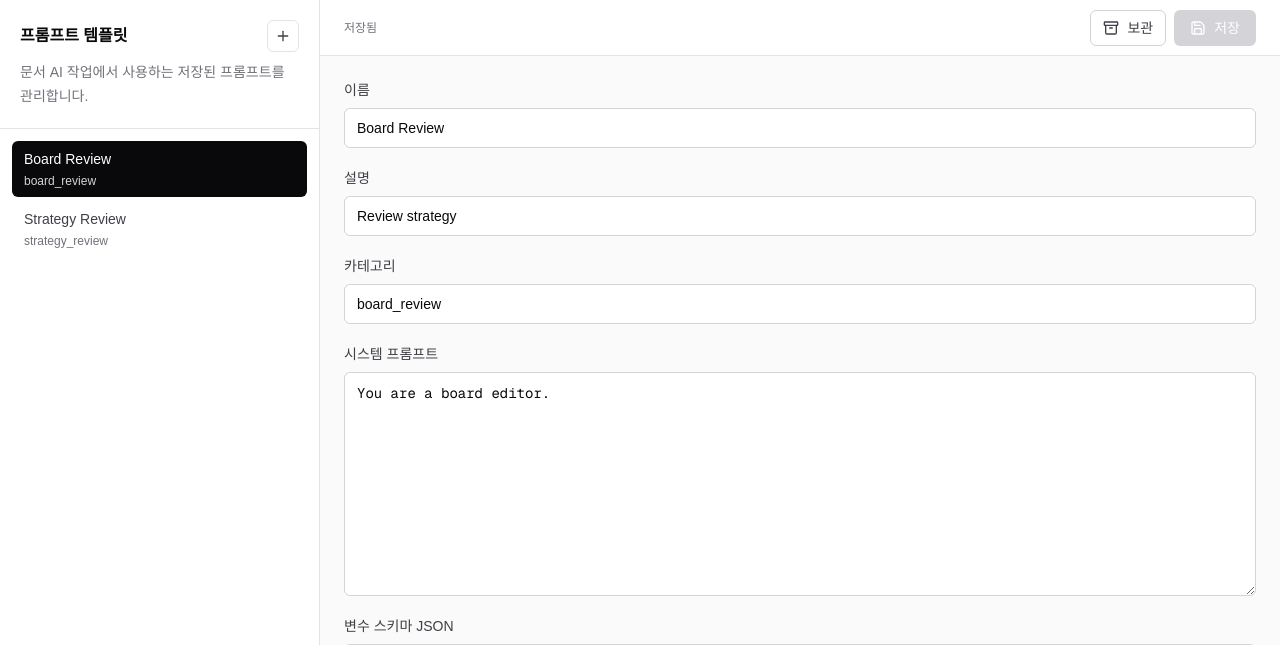
Scenario: PromptTemplateManager › archives the selected template
Click the button "Strategy Review strategy_review" at (75, 219), box [12,201,307,257]
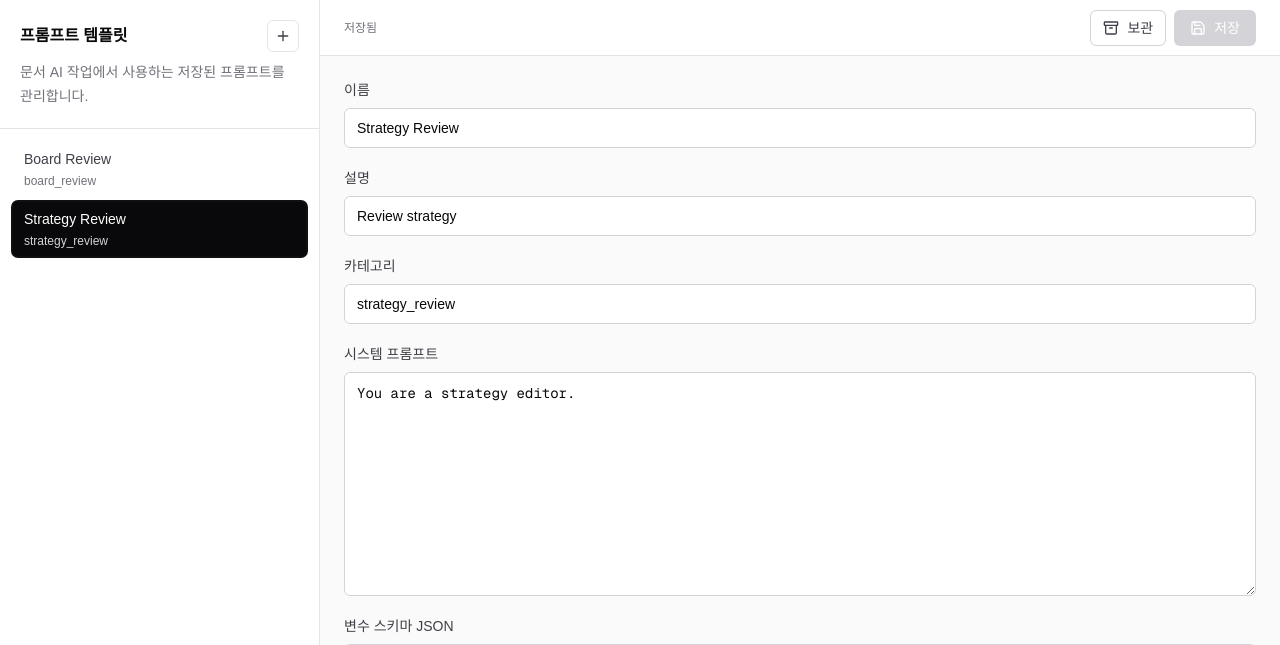
Click the button "보관" at (1128, 28), box [1090,10,1166,46]
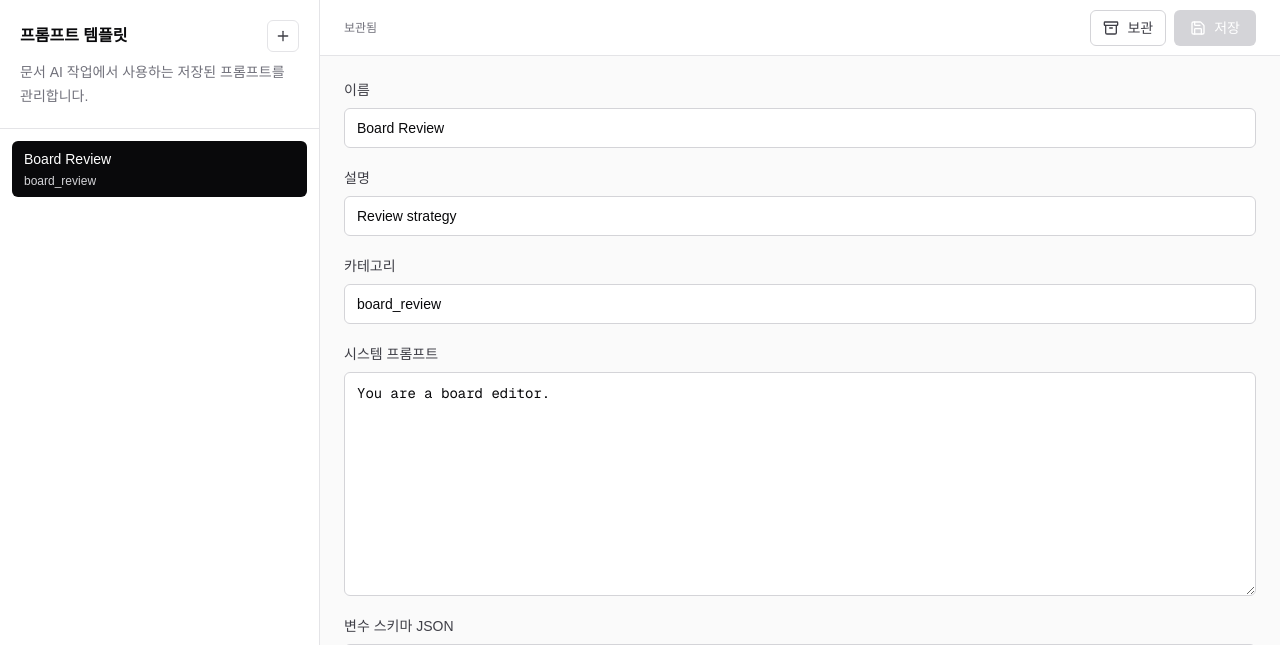
Expected: the button "Strategy Review" is gone
Expected: the field labelled "이름" holds "Board Review", [344,108,1256,148]
